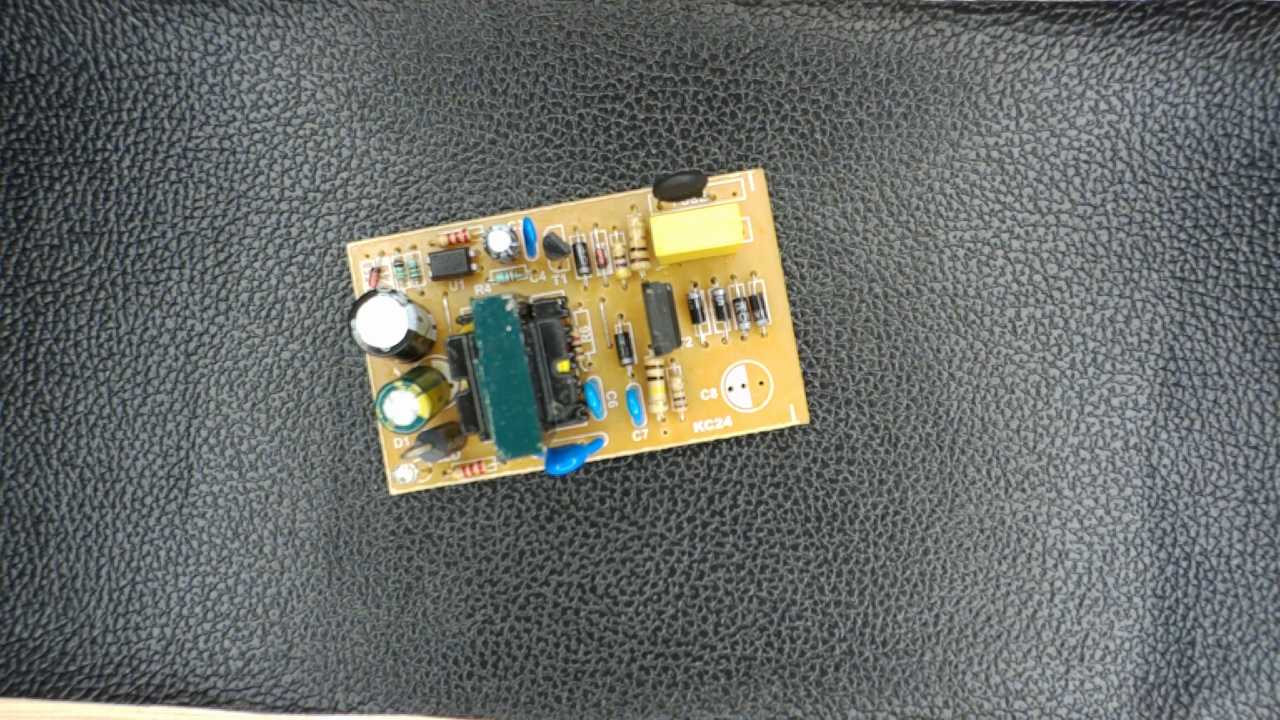fuse: (647, 165, 723, 207)
mov: (521, 431, 611, 476)
optocoupler: (419, 240, 483, 282)
